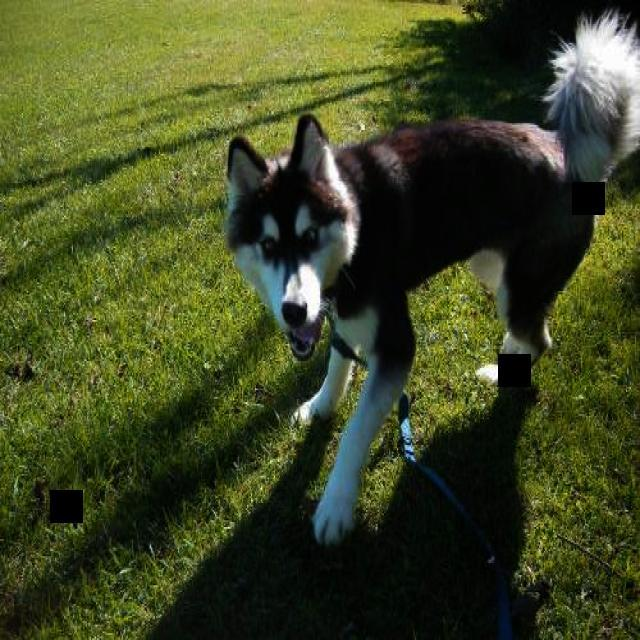adult_dog: (226, 3, 640, 545)
